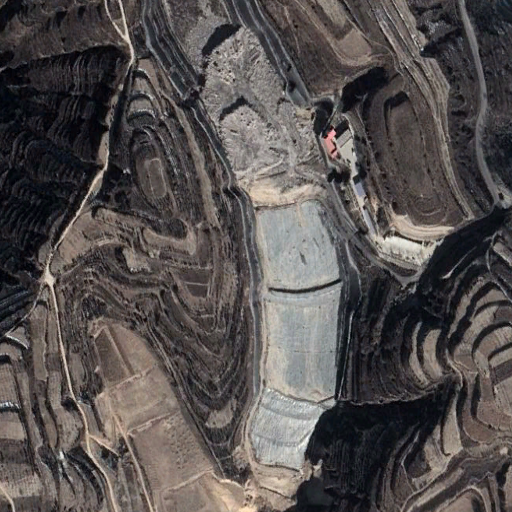lf: (200, 28, 342, 474)
